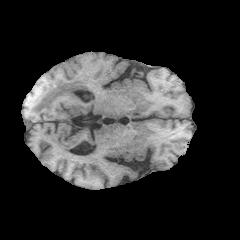glioma: (28, 79, 90, 113)
